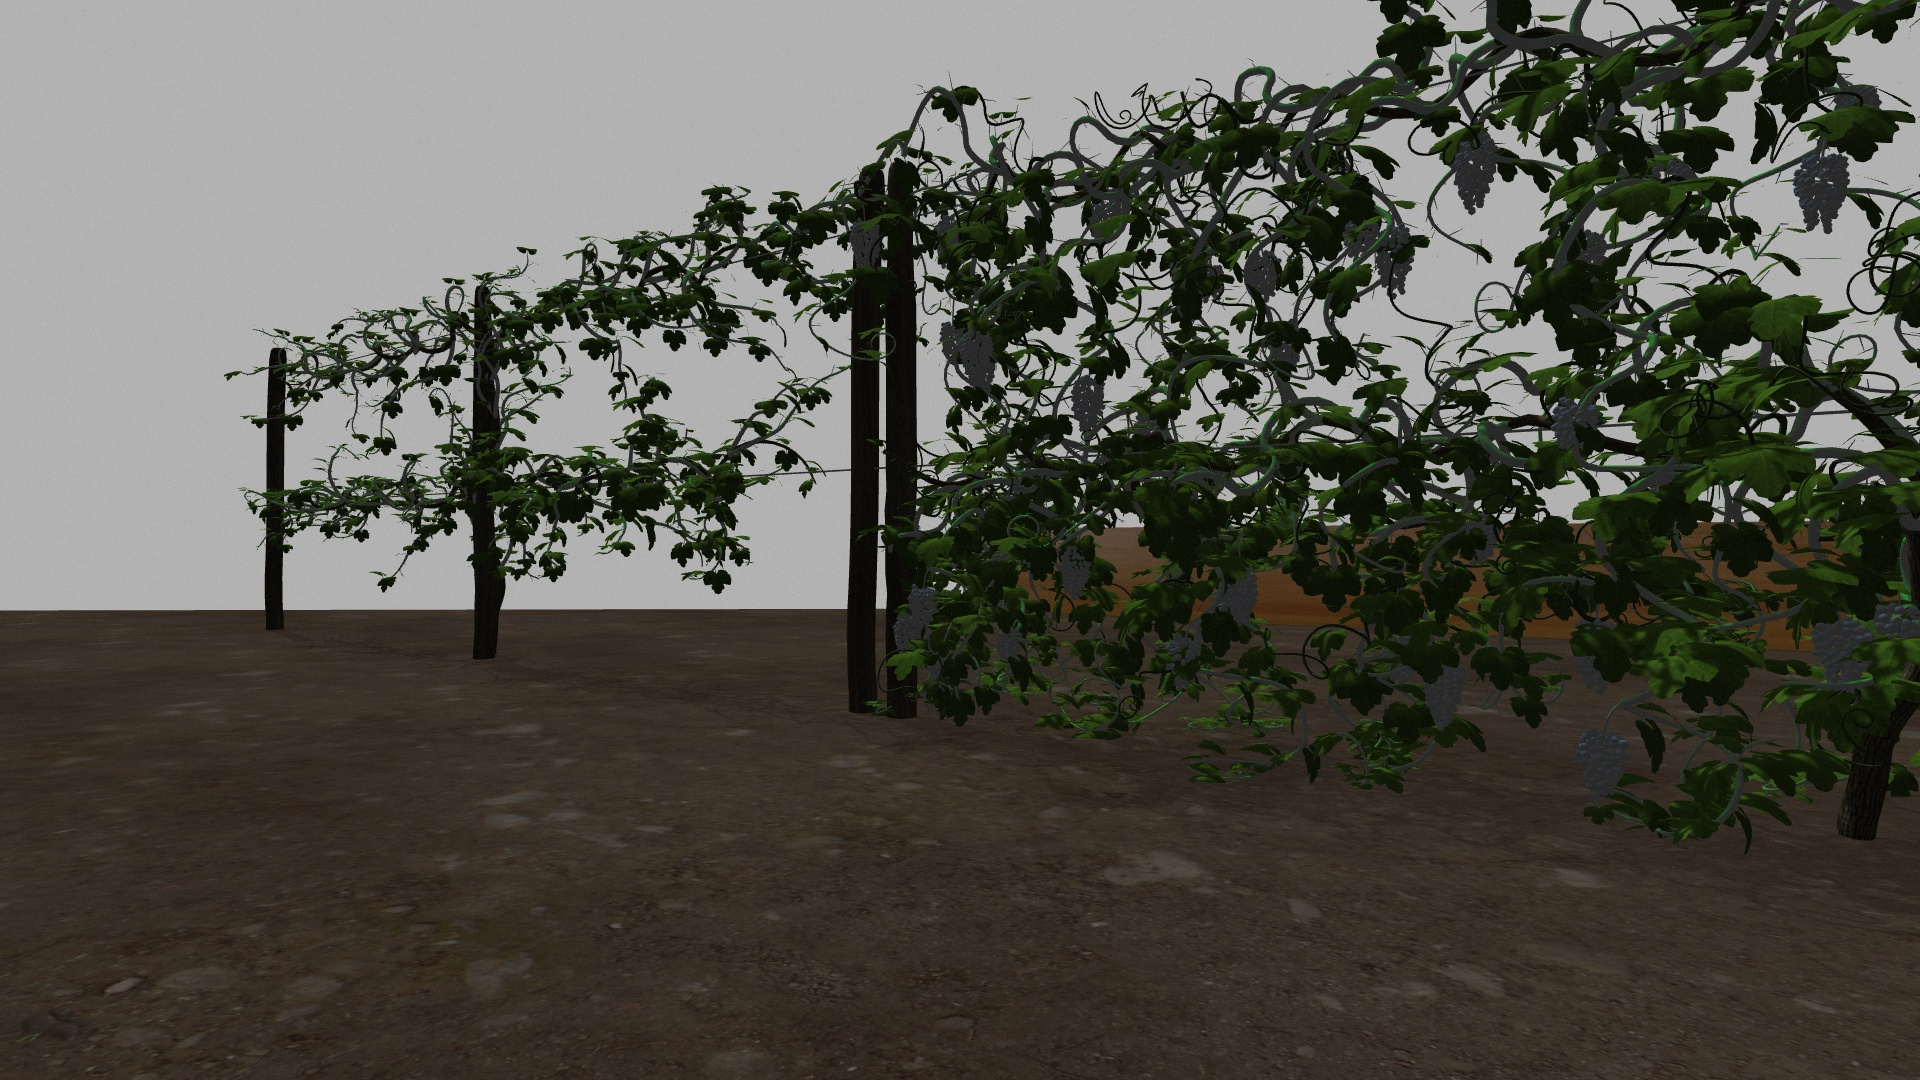grape: (1812, 615, 1874, 694), (1793, 152, 1851, 233), (1452, 132, 1497, 214), (1578, 729, 1630, 800), (1551, 396, 1602, 467), (1422, 661, 1468, 733), (1375, 228, 1415, 298), (957, 330, 1000, 392), (1222, 571, 1259, 636), (1068, 377, 1104, 436), (1058, 545, 1092, 603), (1247, 251, 1280, 302), (848, 222, 882, 269), (992, 620, 1023, 669), (1164, 632, 1205, 666), (893, 612, 924, 653), (910, 585, 942, 625), (939, 322, 967, 363)
